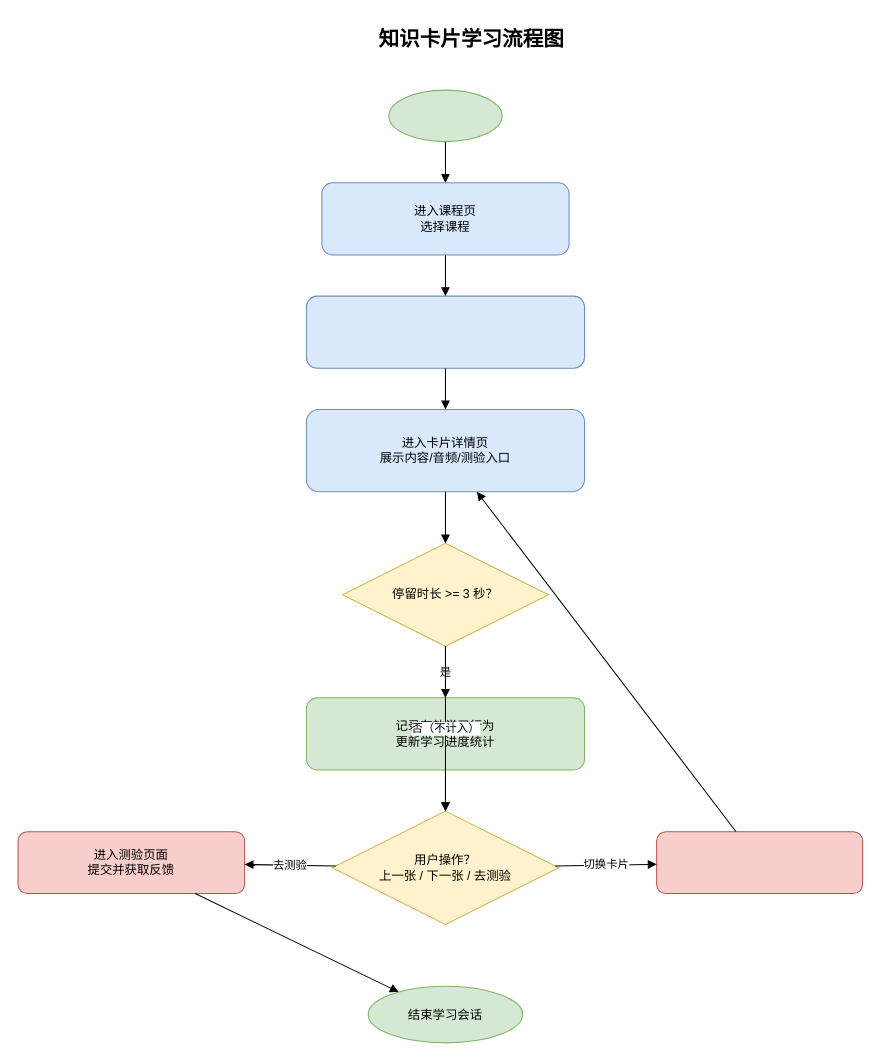
Image size: 881x1061. Some labels were removed from this diagram. Each missing label, with the centre of its shape:
加载卡片列表 按排序值与ID稳定排序: the point at 445,331
开始: the point at 445,115
跳转相邻卡片: the point at 759,862
